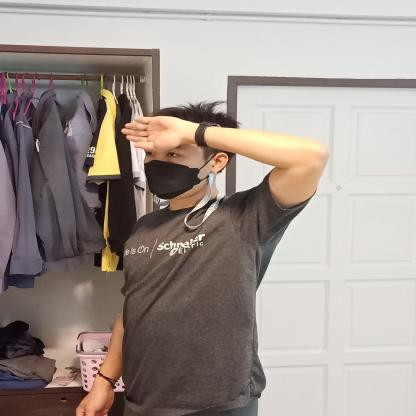Sick: (115, 110, 328, 216)
